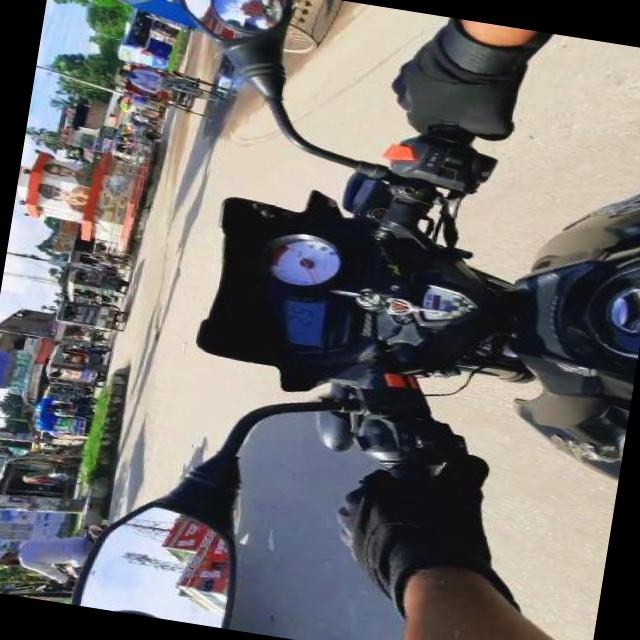bus: (116, 12, 177, 68)
motorcycle: (66, 0, 640, 640), (113, 64, 223, 119), (18, 430, 83, 490), (43, 334, 107, 386), (34, 388, 97, 439), (51, 300, 124, 334), (62, 270, 124, 310), (110, 122, 160, 161), (54, 324, 108, 346)
